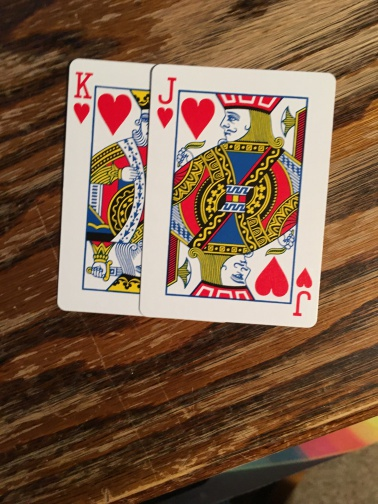jack: (140, 63, 337, 331)
king: (57, 59, 152, 318)
